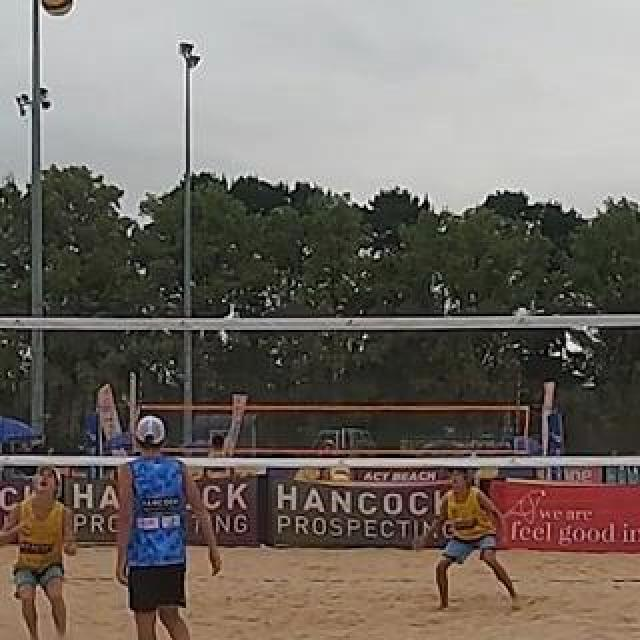volleyball: (41, 0, 75, 16)
